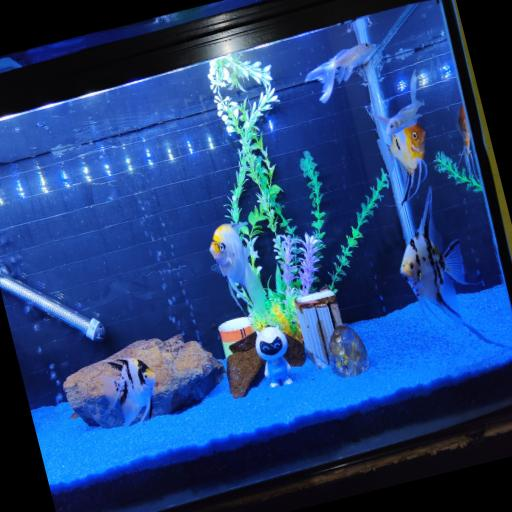Fish: (400, 188, 502, 347), (209, 223, 271, 323), (304, 43, 374, 103), (377, 124, 426, 203), (102, 359, 155, 427), (374, 71, 423, 136), (458, 106, 475, 175)
